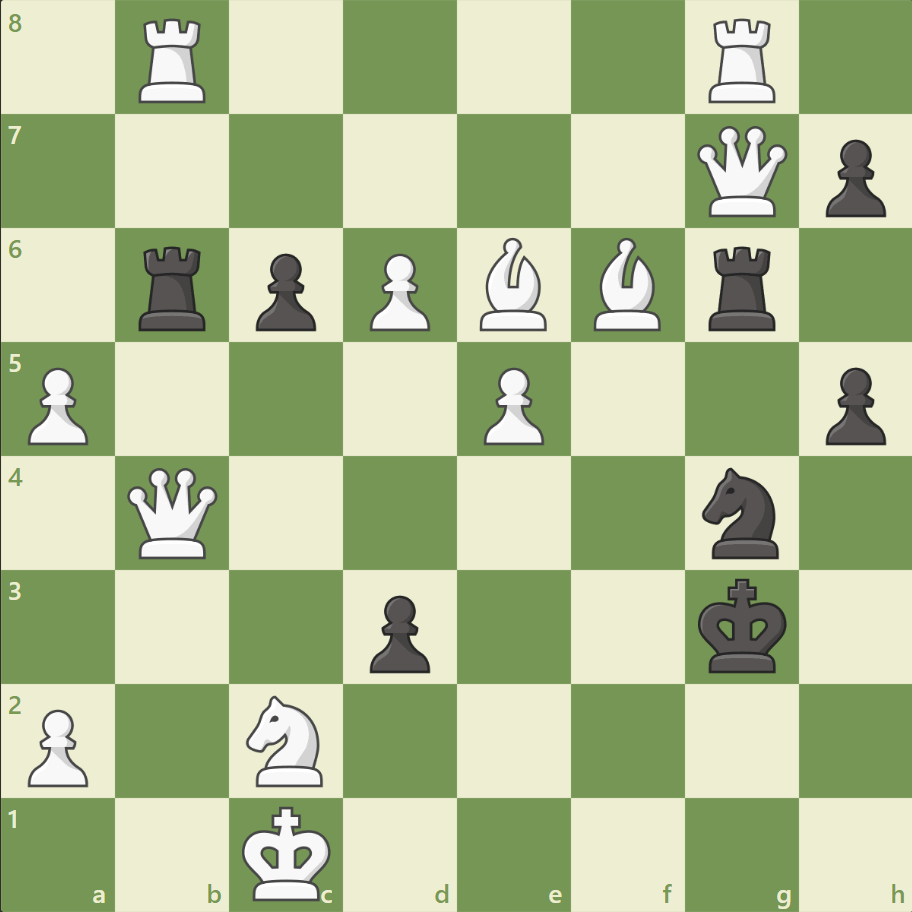B: (471, 233, 555, 336), (585, 233, 669, 336)
K: (238, 798, 338, 906)
N: (238, 688, 335, 791)
P: (20, 359, 95, 450), (474, 359, 549, 450), (20, 700, 95, 791), (361, 246, 435, 337)
Q: (691, 122, 790, 222), (124, 463, 223, 562)
R: (700, 12, 783, 109), (133, 12, 215, 109)
k: (692, 571, 792, 679)
n: (692, 461, 789, 564)
p: (247, 246, 322, 337), (815, 132, 889, 223), (815, 359, 889, 450), (361, 586, 435, 677)
r: (700, 239, 783, 336), (133, 239, 215, 336)
